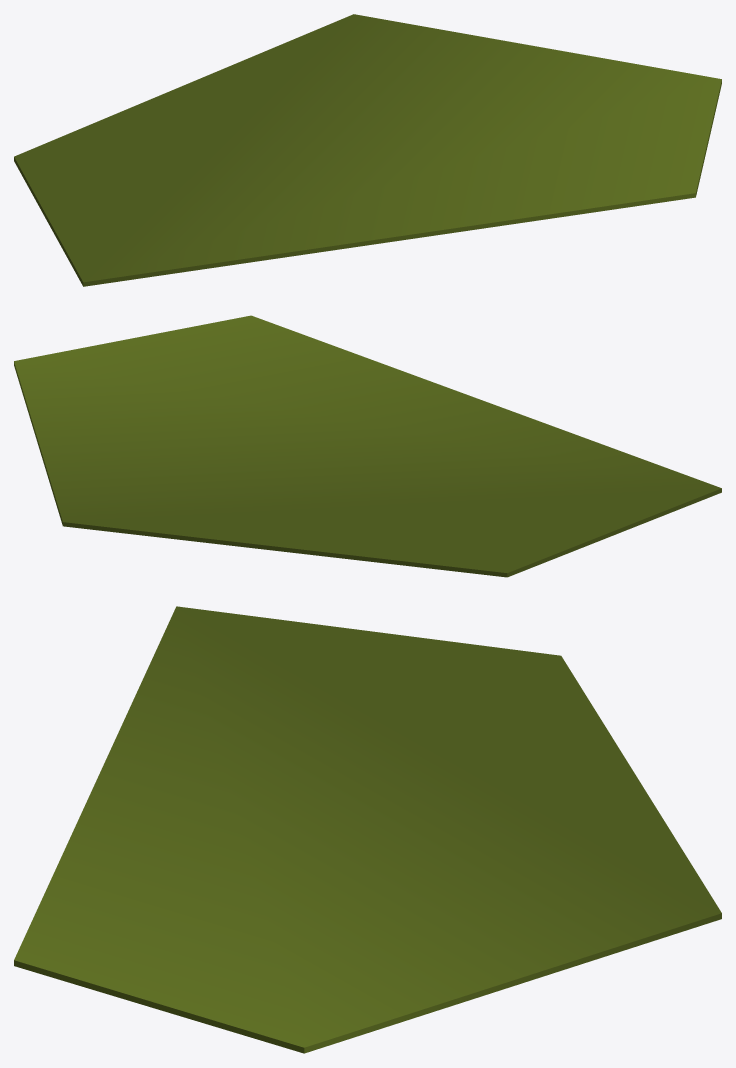
Rendered from floor 3.fbx.
The picture shows the model from 3 angles, top to bottom: view 1: azimuth 30°, elevation 25°; view 2: azimuth 150°, elevation 25°; view 3: azimuth 270°, elevation 25°; orthographic projection. The views are drawn at different scales.
Visible parts, largest first — view 1: Cube.615; view 2: Cube.615; view 3: Cube.615.
Boxes of the visible parts, <box> form: Cube.615: <box>14,14,721,286</box>; Cube.615: <box>14,315,721,577</box>; Cube.615: <box>14,606,721,1053</box>.
Size of the model in its own units: 2448 by 15.18 by 1660.
